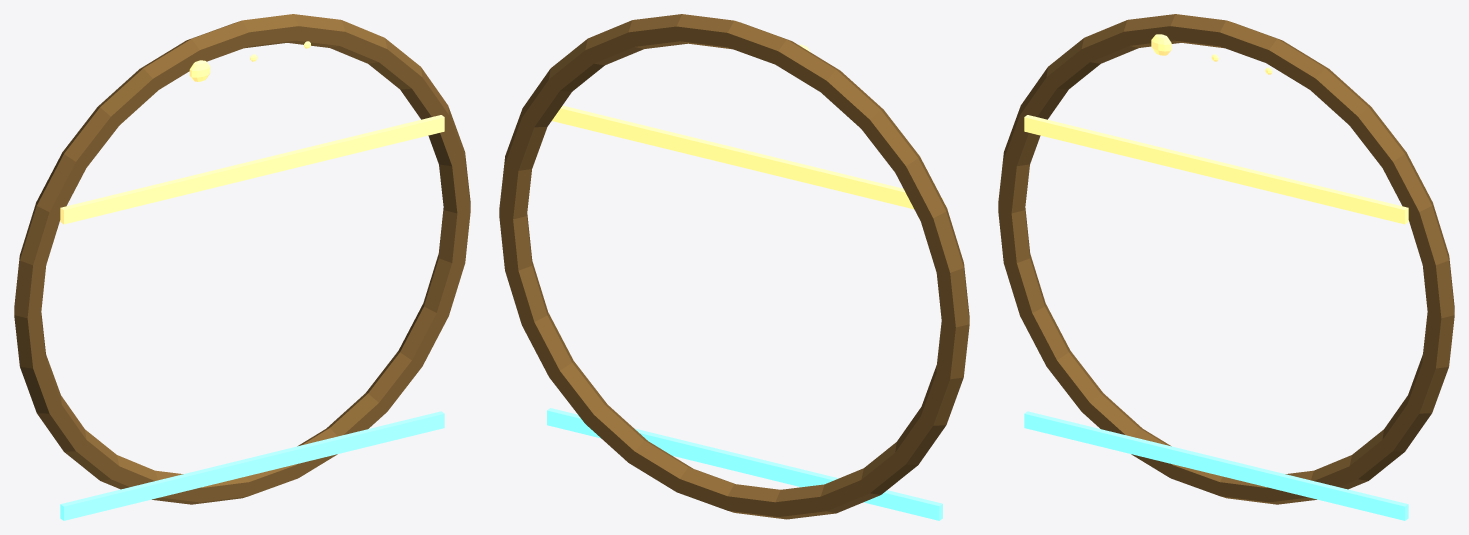
File: 05_meridian_bridges.glb
3 views of the same model, side by side, from view 1: azimuth 30°, elevation 25°; view 2: azimuth 150°, elevation 25°; view 3: azimuth 330°, elevation 25° (orthographic). The views are drawn at different scales.
Parts seen in each view (by area): view 1: meridian_bridge_frame_nocol, meridian_bridge_rail_b_nocol, meridian_bridge_rail_a_nocol; view 2: meridian_bridge_frame_nocol, meridian_bridge_rail_b_nocol, meridian_bridge_rail_a_nocol; view 3: meridian_bridge_frame_nocol, meridian_bridge_rail_b_nocol, meridian_bridge_rail_a_nocol.
Part boxes in pixels (bbox=[...]): meridian_bridge_frame_nocol: bbox=[14, 14, 470, 504]; meridian_bridge_rail_b_nocol: bbox=[60, 115, 444, 224]; meridian_bridge_rail_a_nocol: bbox=[60, 411, 444, 520]; meridian_bridge_frame_nocol: bbox=[499, 14, 969, 519]; meridian_bridge_rail_b_nocol: bbox=[552, 105, 942, 209]; meridian_bridge_rail_a_nocol: bbox=[547, 408, 942, 520]; meridian_bridge_frame_nocol: bbox=[998, 14, 1454, 504]; meridian_bridge_rail_b_nocol: bbox=[1024, 115, 1408, 224]; meridian_bridge_rail_a_nocol: bbox=[1024, 411, 1408, 520].
Size of what is drawn, in the model's own units: 18.7 by 18.7 by 1.5.
